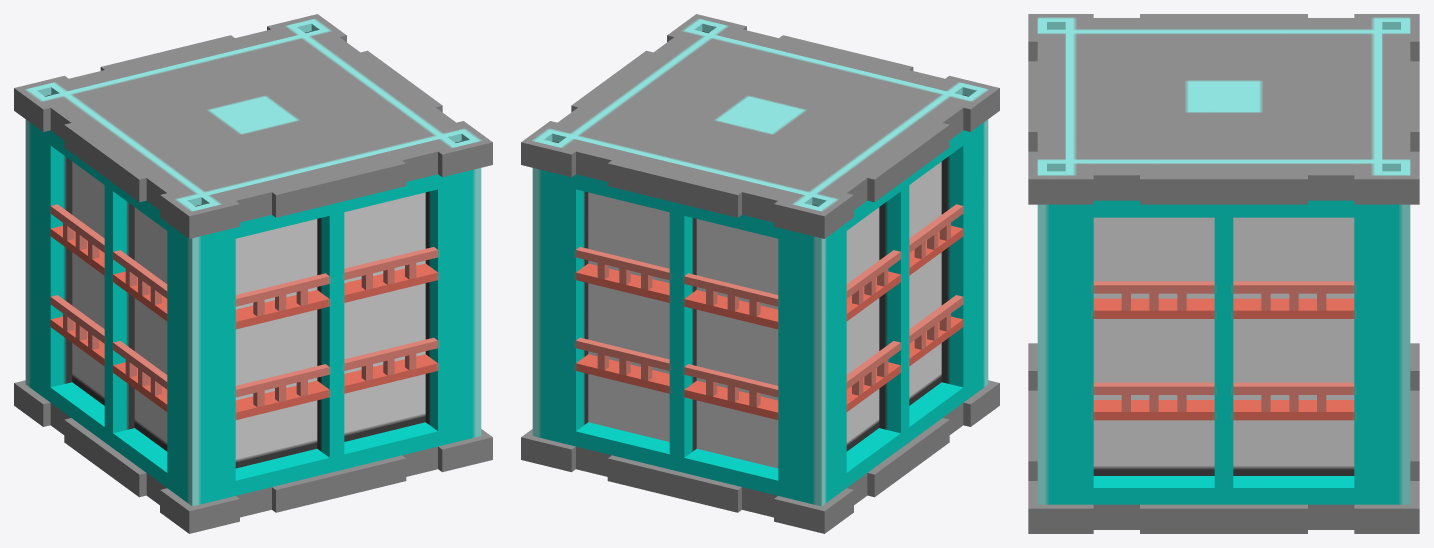
Rendered from Tower_12.fbx.
3 views of the same model, side by side, from view 1: azimuth 30°, elevation 25°; view 2: azimuth 150°, elevation 25°; view 3: azimuth 270°, elevation 25° (orthographic). The views are drawn at different scales.
Parts seen in each view (by area): view 1: Box; view 2: Box; view 3: Box.
Part boxes in pixels (left/top/right/bottom): Box: left=14, top=14, right=492, bottom=533; Box: left=521, top=14, right=999, bottom=533; Box: left=1028, top=14, right=1419, bottom=533.
Size of the model in its own units: 42 by 42 by 42.
Materials: 1 (1 with a texture image).
